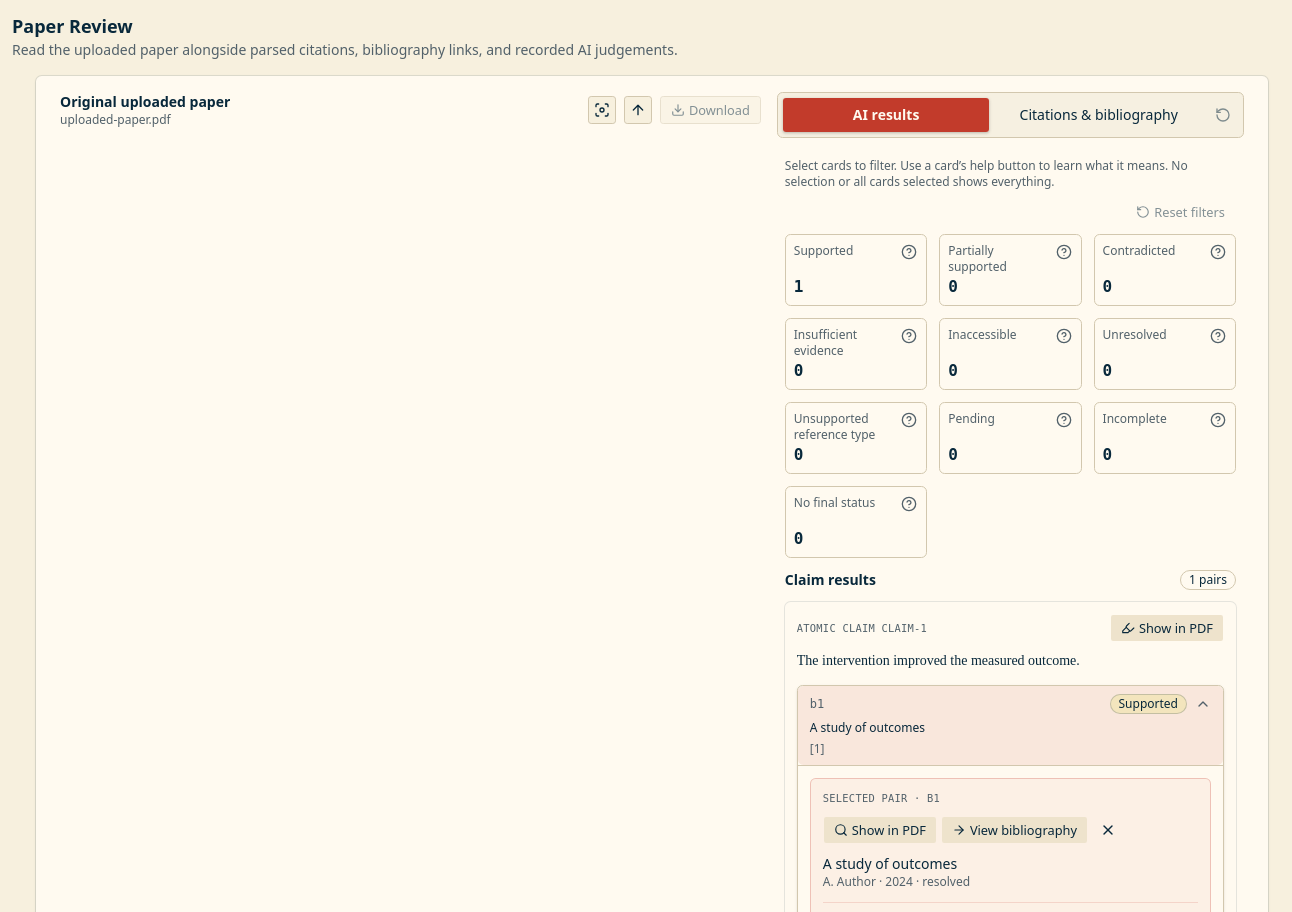
Test: Analysis Run Paper Review › highlights the selected Atomic Claim and citation marker in the original PDF
Click the button "Show in PDF" below "Selected pair ·": (880, 830) [823,816,937,844]
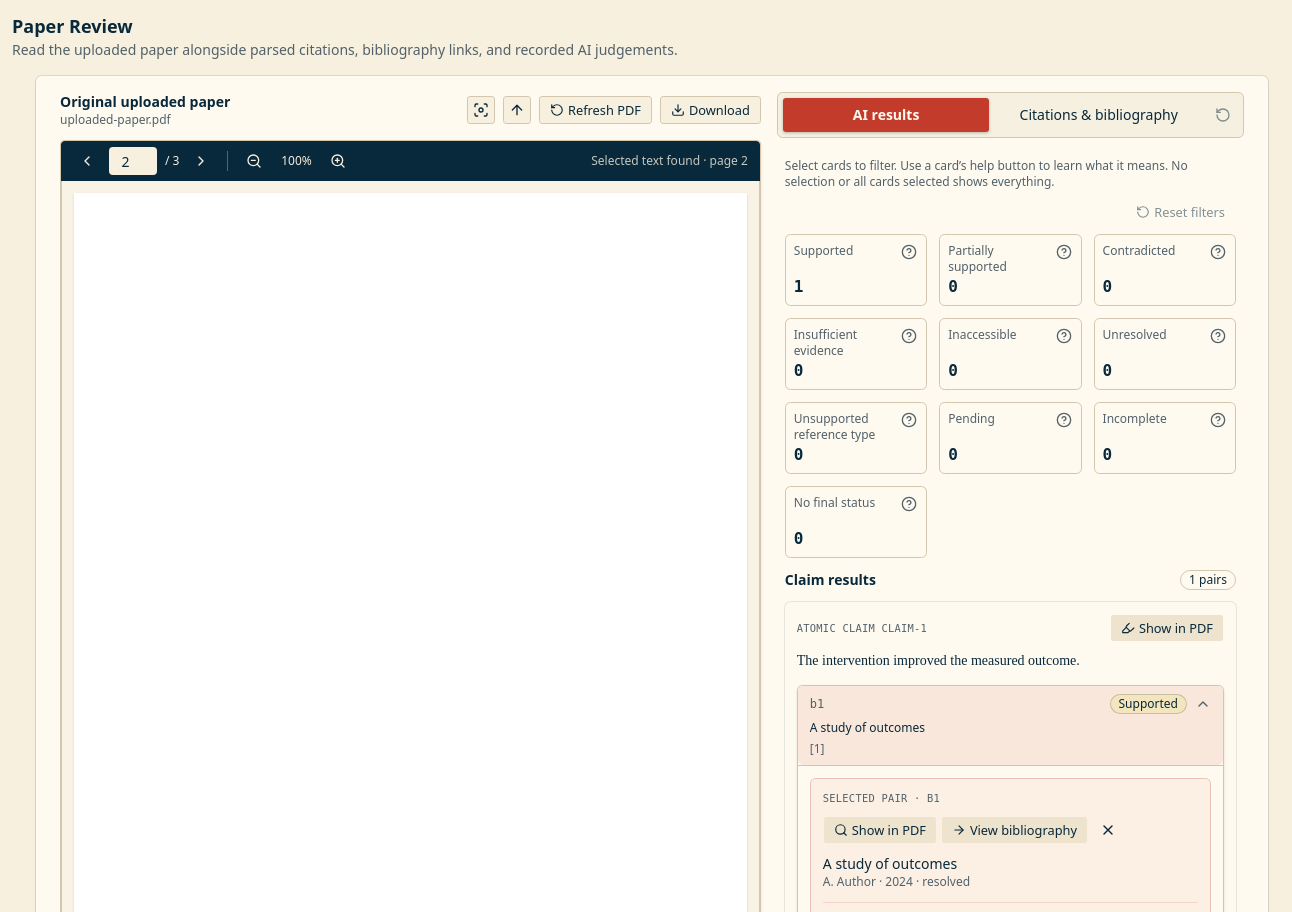
expect the number field named "PDF page number" holds "2": met, box [109,147,157,175]
expect the text "Selected text found · page 2" is shown: met, box [591,152,748,169]
